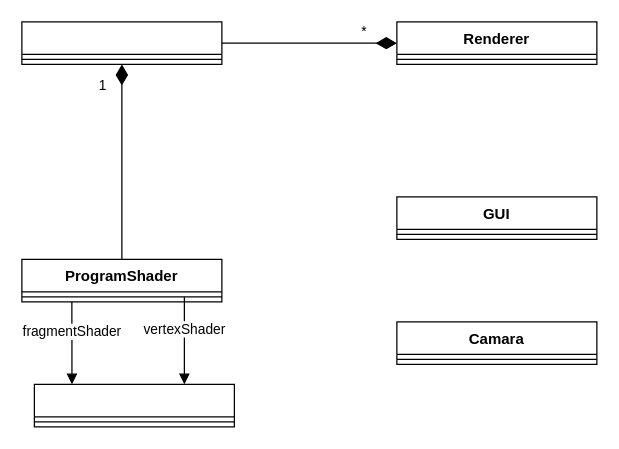
This 619x449 diagram has some shape labels left out. Here are the shapes that lost their labels. From the top down, the centre of each, then its label:
At pixel 121 42: "Modelo".
At pixel 133 405: "Shader".
